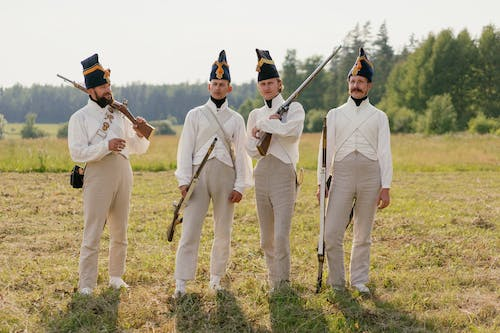gun: (254, 42, 342, 158), (55, 72, 156, 143), (164, 135, 218, 244), (314, 115, 328, 295)
